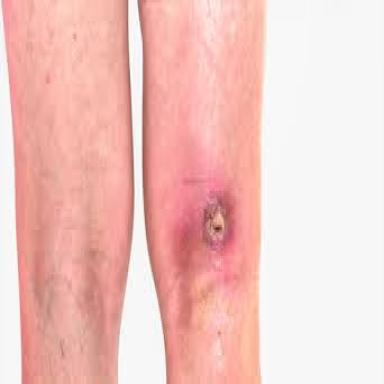Leishmanios: (203, 190, 233, 250)
